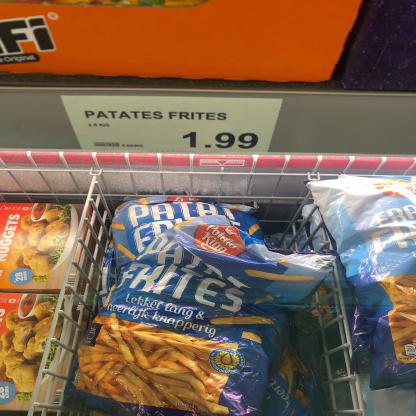prtg: (60, 95, 284, 156)
